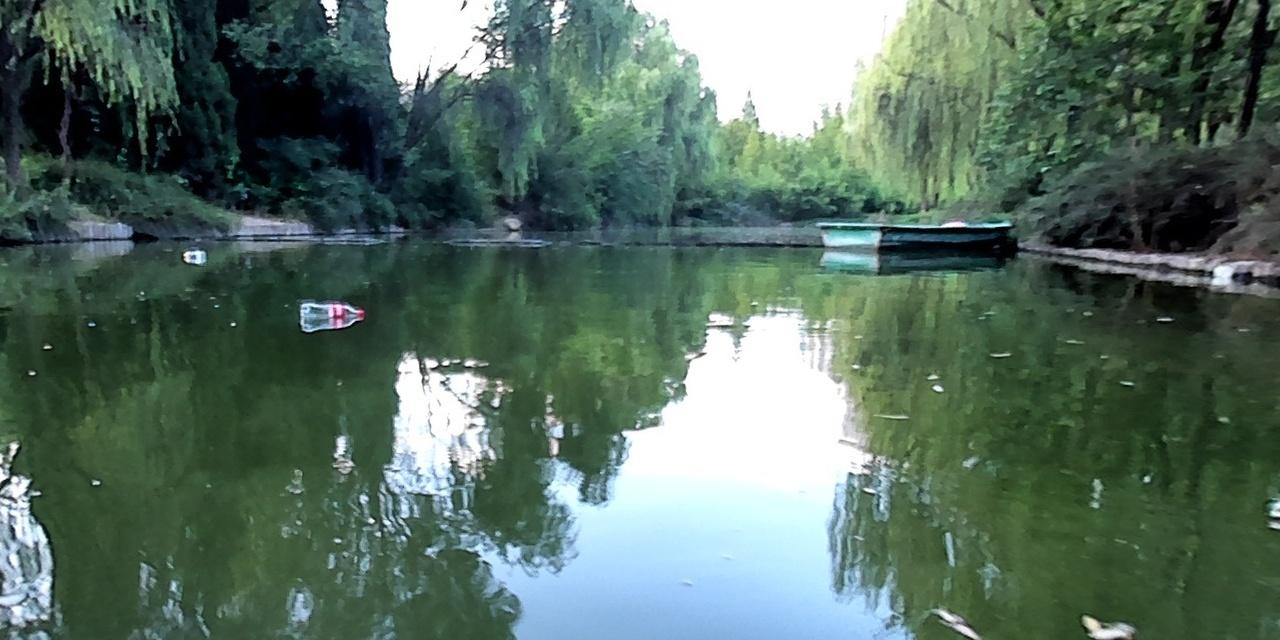bottle: (297, 301, 361, 319), (184, 249, 203, 258)
